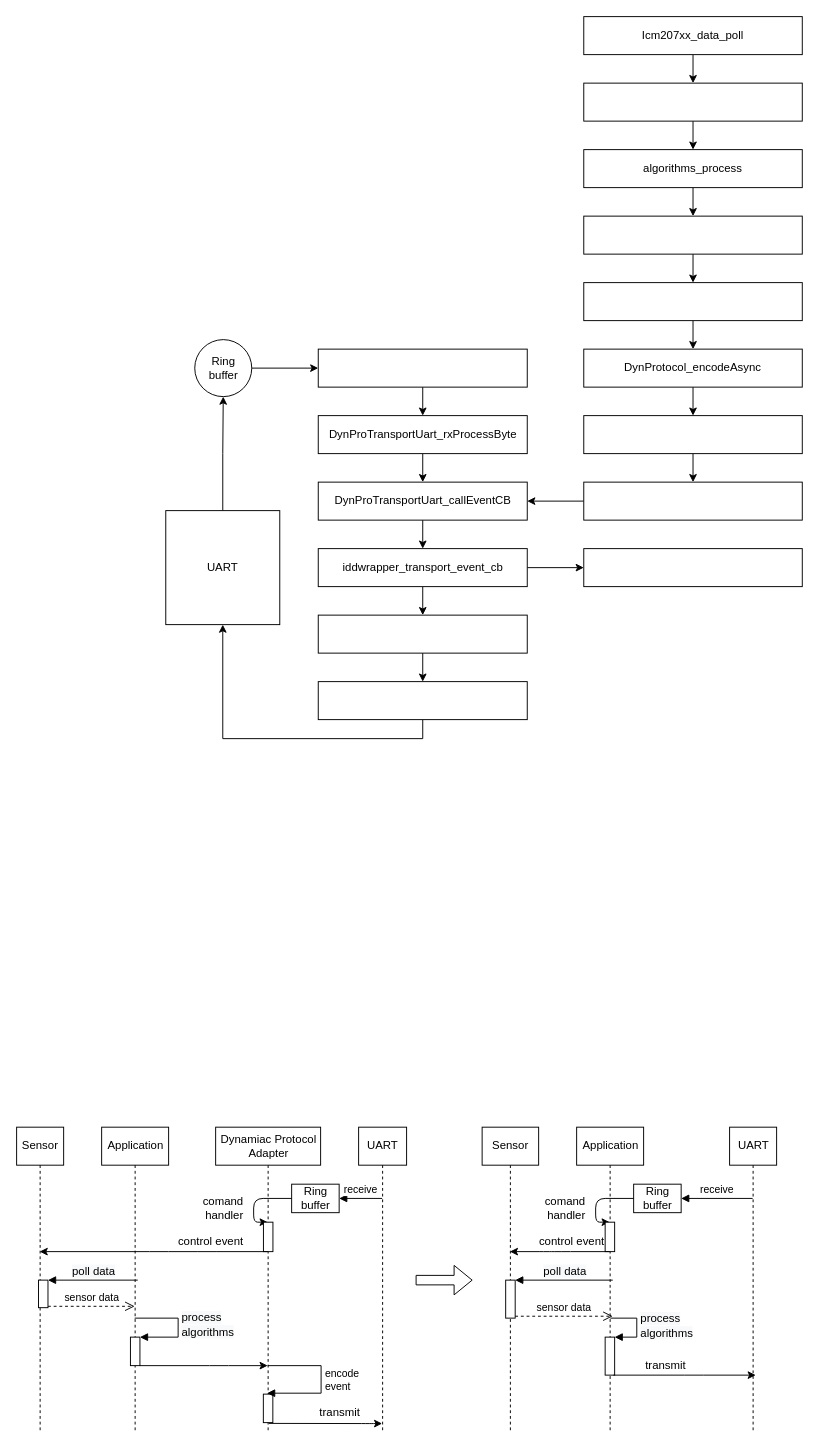
The diagram is 819 pixels wide and 1449 high, and some of its shapes have lost their labels. Here are the shapes that lost their labels. From the top down, the centre of each, then its label:
the point at 692,101: inv_icm207xx_poll_fifo_data
the point at 692,234: notify_event
the point at 692,301: sensor_event
the point at 422,367: CommandHandler
the point at 692,434: DynProtocol_encodeSensorEvent
the point at 692,500: DynProTransportUart_tx
the point at 692,567: DynProtocol_processPktByte
the point at 422,633: InvEMDFrontEnd_putcharHook
the point at 422,700: usart_serial_putchar
